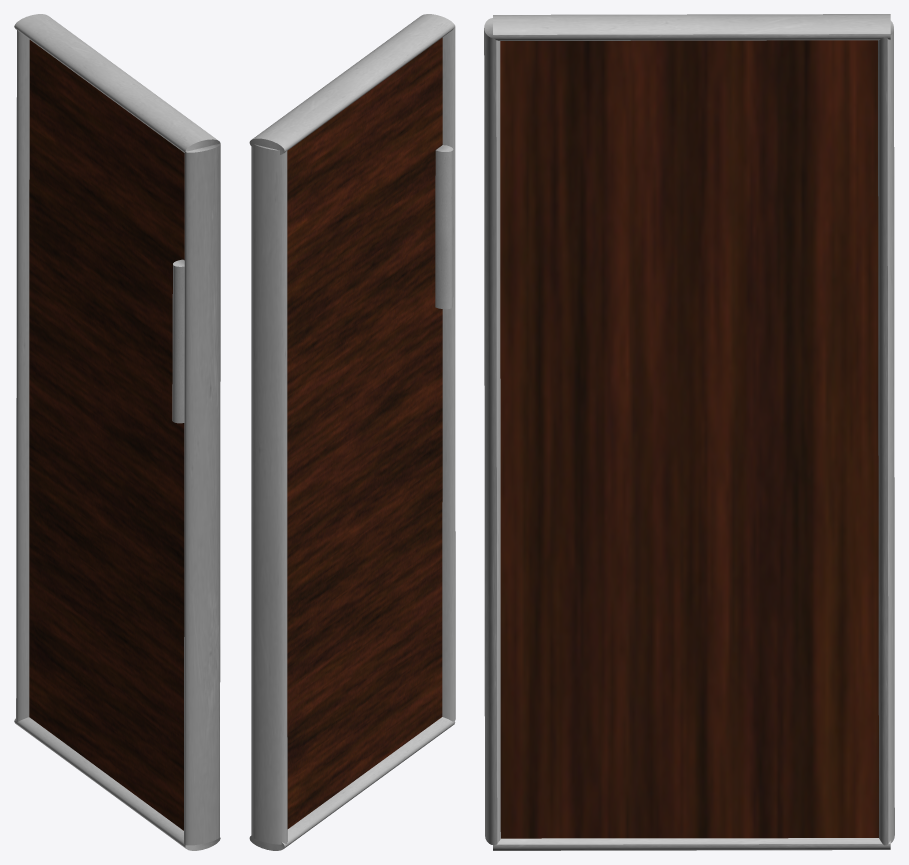
File: PuertaIzquierda.obj
3 views of the same model, side by side, from view 1: azimuth 30°, elevation 25°; view 2: azimuth 150°, elevation 25°; view 3: azimuth 270°, elevation 25° (orthographic). The views are drawn at different scales.
Visible parts, largest first — view 1: polySurface115; view 2: polySurface115; view 3: polySurface115.
Part boxes in pixels (x1,y1,x2,y2): polySurface115: (14,14,220,850); polySurface115: (249,14,455,850); polySurface115: (484,14,894,850).
Bounding box in the file's own units: 0.0292 × 0.4954 × 0.2228.
6 materials, 6 textured.
